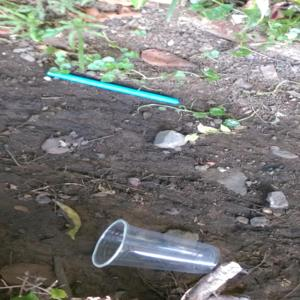plastic: (76, 212, 235, 281), (37, 68, 187, 110)
